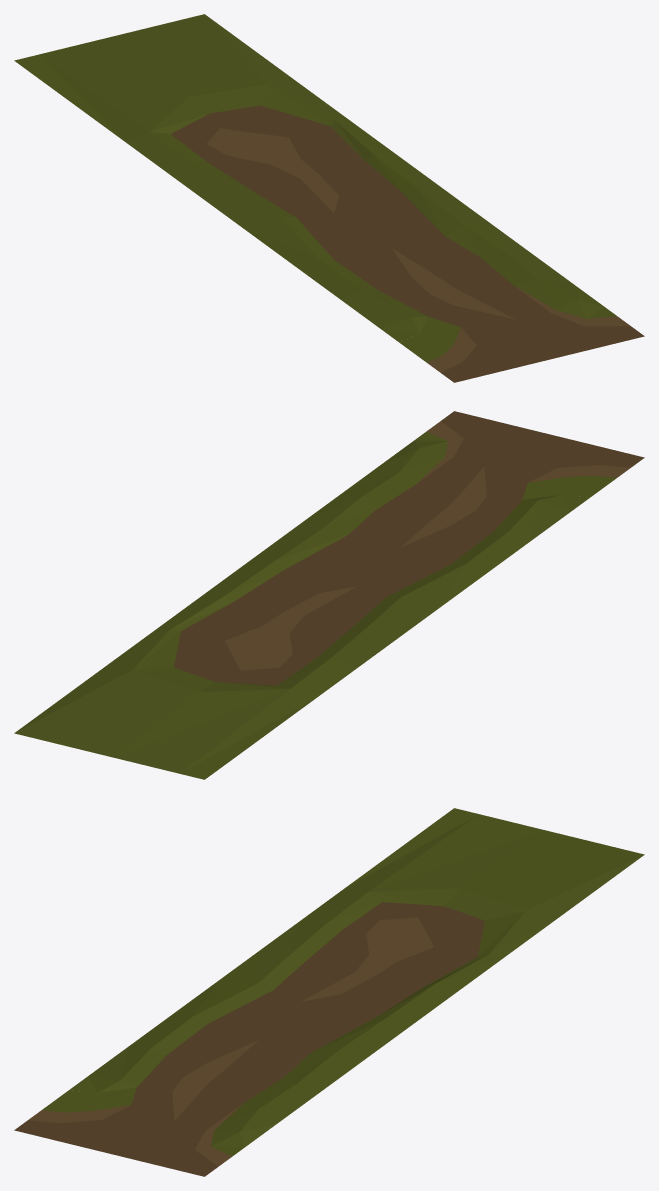
Rendered from SM_parcel_road_01.glb.
3 renders of one model, top to bottom at view 1: azimuth 30°, elevation 25°; view 2: azimuth 150°, elevation 25°; view 3: azimuth 330°, elevation 25°, orthographic.
Visible parts, largest first — view 1: SM_parcel_road_01; view 2: SM_parcel_road_01; view 3: SM_parcel_road_01.
Part boxes in pixels (x1,y1,x2,y2): SM_parcel_road_01: [14, 14, 644, 382]; SM_parcel_road_01: [14, 411, 644, 779]; SM_parcel_road_01: [14, 808, 644, 1176].
Size of the model in its own units: 8 by 0.15 by 32.
1 material, 1 textured.
